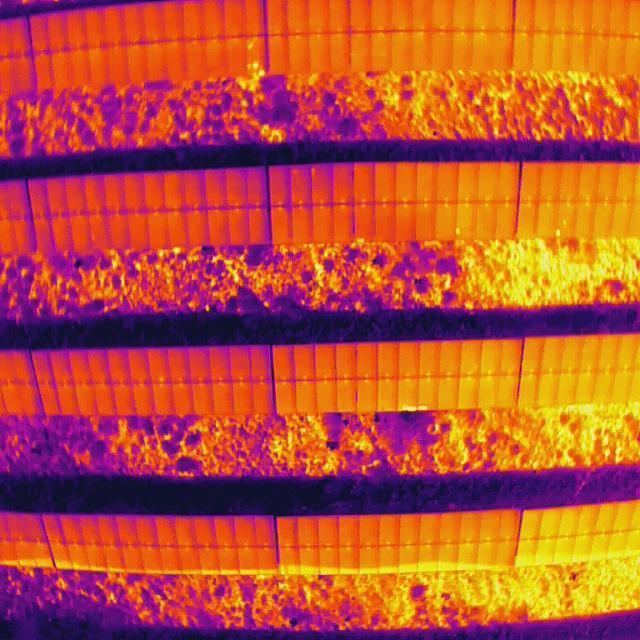panel: (180, 167, 210, 212), (266, 161, 293, 209), (287, 161, 314, 209), (308, 161, 335, 209), (330, 159, 357, 207), (350, 158, 377, 206), (371, 158, 398, 206), (392, 158, 419, 206), (80, 172, 108, 218), (433, 159, 461, 205), (454, 159, 482, 205), (475, 159, 503, 205), (494, 158, 522, 204), (180, 38, 208, 83), (120, 171, 148, 215), (25, 176, 52, 221), (202, 166, 229, 211), (222, 166, 249, 211), (243, 164, 270, 209), (119, 3, 147, 46), (595, 331, 623, 374), (414, 159, 440, 205), (518, 159, 544, 205), (538, 159, 564, 205), (556, 158, 582, 204), (139, 1, 166, 45), (63, 173, 90, 217), (594, 161, 621, 205), (48, 49, 75, 93), (448, 28, 475, 72), (469, 28, 496, 72), (4, 178, 32, 220), (8, 54, 36, 96), (161, 167, 186, 214), (101, 172, 127, 217), (105, 44, 131, 89), (143, 41, 169, 86), (369, 28, 395, 73), (389, 27, 415, 72), (408, 28, 434, 73), (428, 28, 454, 73), (612, 161, 639, 204), (163, 40, 190, 83), (577, 159, 602, 205), (160, 1, 188, 42), (146, 345, 174, 386), (577, 332, 605, 373), (124, 41, 150, 85), (43, 176, 70, 218), (416, 337, 443, 379), (437, 337, 464, 379), (478, 336, 505, 378), (498, 336, 525, 378), (538, 334, 565, 376), (558, 332, 585, 374), (142, 169, 167, 214), (204, 37, 229, 82), (223, 35, 248, 80), (243, 35, 268, 80), (266, 33, 291, 78), (287, 32, 312, 77), (308, 30, 333, 75), (327, 30, 352, 75), (349, 29, 374, 74), (511, 28, 536, 73), (99, 4, 125, 47), (288, 204, 314, 247), (268, 204, 294, 247), (246, 205, 272, 248), (375, 337, 401, 380), (396, 338, 422, 381), (548, 30, 574, 73), (15, 381, 45, 418), (180, 1, 207, 42), (200, 1, 227, 42), (609, 200, 636, 241), (68, 214, 95, 255), (457, 337, 484, 378), (68, 48, 95, 89), (6, 14, 31, 58), (45, 10, 70, 54), (63, 7, 88, 51), (530, 29, 555, 73), (9, 216, 37, 255), (9, 346, 37, 385), (28, 347, 56, 386), (66, 347, 94, 386), (86, 347, 114, 386), (105, 346, 133, 385), (126, 346, 154, 385), (207, 343, 233, 385), (227, 342, 253, 384), (247, 342, 273, 384), (271, 341, 297, 383), (292, 340, 318, 382), (313, 340, 339, 382), (333, 338, 359, 380), (87, 45, 113, 87), (165, 345, 192, 385), (613, 332, 640, 372), (489, 28, 514, 71), (553, 201, 579, 242), (226, 207, 252, 248), (206, 208, 232, 249), (184, 208, 210, 249), (166, 209, 192, 250), (520, 334, 546, 375), (47, 348, 75, 386), (222, 1, 249, 40), (555, 503, 584, 539), (574, 501, 603, 537), (591, 201, 617, 241), (145, 211, 171, 251), (126, 211, 152, 251), (187, 344, 213, 384), (495, 506, 523, 543), (27, 11, 51, 54), (80, 6, 104, 49), (31, 50, 55, 93), (567, 31, 591, 74), (586, 31, 610, 74), (605, 32, 629, 75), (455, 374, 482, 412), (494, 200, 519, 241), (473, 201, 498, 242), (454, 201, 479, 242), (432, 202, 457, 243), (354, 340, 379, 381), (105, 212, 131, 251), (49, 214, 75, 253), (32, 217, 58, 256), (413, 201, 437, 243), (331, 202, 355, 244), (310, 203, 334, 245), (515, 201, 540, 241), (476, 507, 503, 544), (253, 511, 279, 549), (534, 201, 558, 242), (591, 500, 619, 535), (609, 498, 637, 533), (516, 372, 541, 411), (294, 378, 319, 417), (608, 369, 635, 405), (591, 370, 618, 406), (111, 382, 138, 418), (92, 382, 119, 418), (36, 382, 63, 418), (1, 381, 28, 417), (437, 510, 464, 546), (393, 201, 416, 243), (476, 374, 502, 411), (373, 202, 397, 242), (352, 202, 376, 242), (56, 512, 85, 545), (53, 383, 81, 417), (535, 371, 560, 409), (518, 507, 545, 542), (537, 505, 564, 540), (573, 201, 596, 242), (494, 374, 520, 410), (334, 377, 358, 416), (131, 382, 157, 418), (212, 513, 238, 549), (376, 512, 402, 548), (397, 511, 423, 547), (417, 511, 443, 547), (457, 509, 483, 545), (2, 510, 31, 542), (190, 381, 215, 418), (39, 511, 67, 544), (87, 214, 111, 252), (436, 375, 460, 413), (416, 376, 440, 414), (396, 376, 420, 414), (375, 376, 399, 414), (573, 371, 599, 406), (73, 383, 99, 418), (77, 512, 103, 547), (95, 512, 121, 547), (115, 512, 141, 547), (134, 513, 160, 548), (154, 513, 180, 548), (173, 513, 199, 548), (192, 513, 218, 548), (554, 371, 579, 407), (275, 513, 300, 549), (295, 513, 320, 549), (315, 512, 340, 548), (336, 512, 361, 548), (356, 512, 381, 548), (355, 377, 378, 416), (21, 511, 49, 543), (243, 1, 267, 38), (274, 380, 298, 417), (252, 381, 276, 418), (232, 380, 256, 417), (211, 381, 235, 418), (233, 513, 258, 548), (151, 382, 175, 418), (605, 530, 632, 562), (216, 545, 242, 578), (196, 545, 222, 578), (177, 545, 203, 578), (552, 535, 577, 569), (171, 382, 195, 417), (65, 542, 93, 572), (47, 541, 75, 571), (29, 540, 57, 570), (12, 538, 39, 569), (315, 378, 337, 416), (158, 545, 184, 577), (139, 544, 165, 576), (120, 544, 146, 576), (277, 545, 302, 578), (255, 545, 280, 578), (101, 544, 128, 574), (83, 543, 110, 573), (533, 536, 558, 568), (514, 537, 539, 569), (494, 539, 519, 571), (474, 540, 499, 572), (455, 541, 480, 573), (396, 543, 421, 575), (296, 545, 321, 577), (588, 531, 612, 564), (571, 533, 595, 566), (435, 541, 459, 574), (337, 544, 361, 577), (317, 544, 341, 577), (236, 545, 260, 578), (415, 543, 439, 575), (376, 544, 400, 576), (358, 544, 382, 576)
